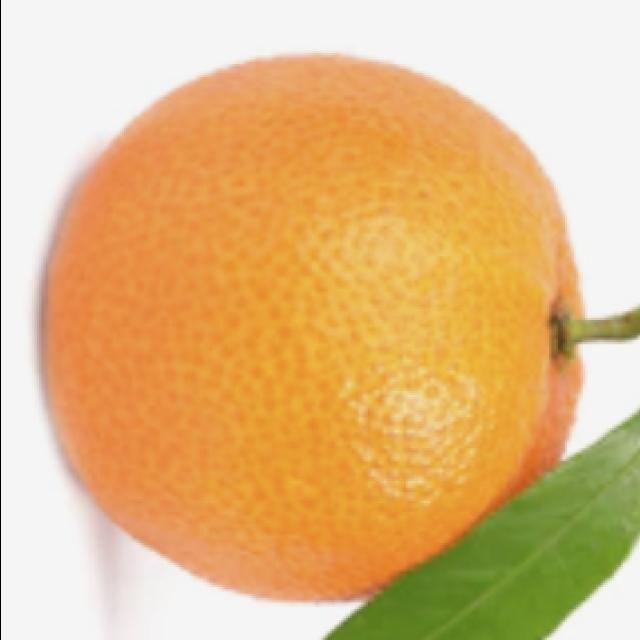orange: (21, 57, 608, 624)
